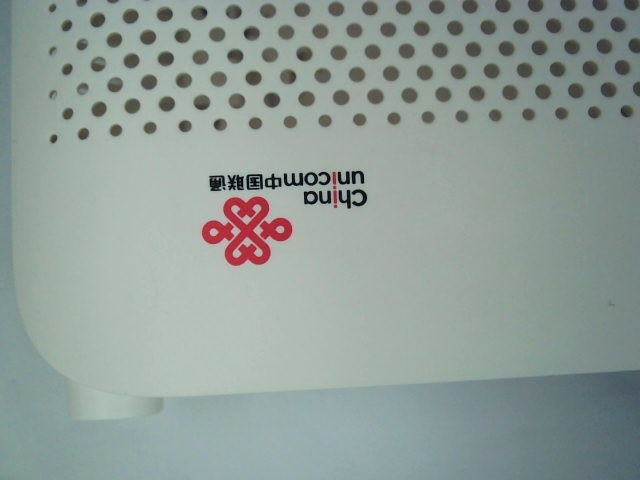AC_ChinaUnicom: (196, 164, 390, 268)
